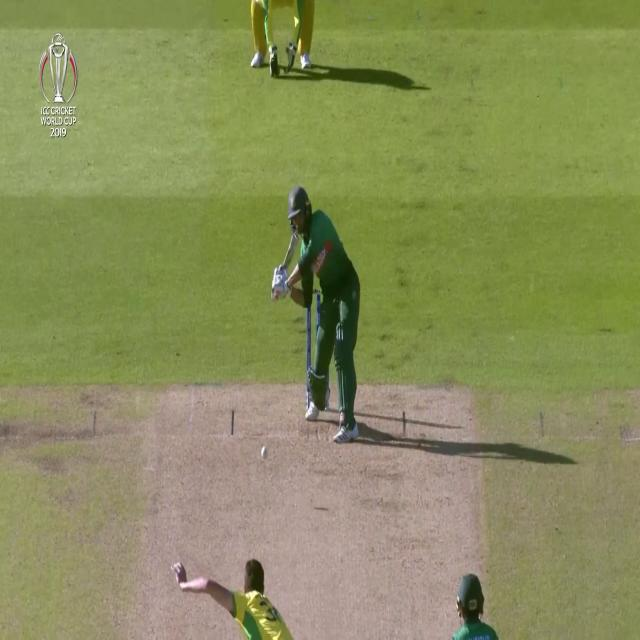ball: (260, 444, 271, 466)
